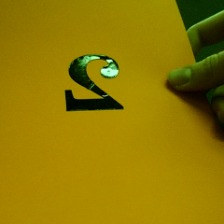orange2: (49, 50, 135, 114)
